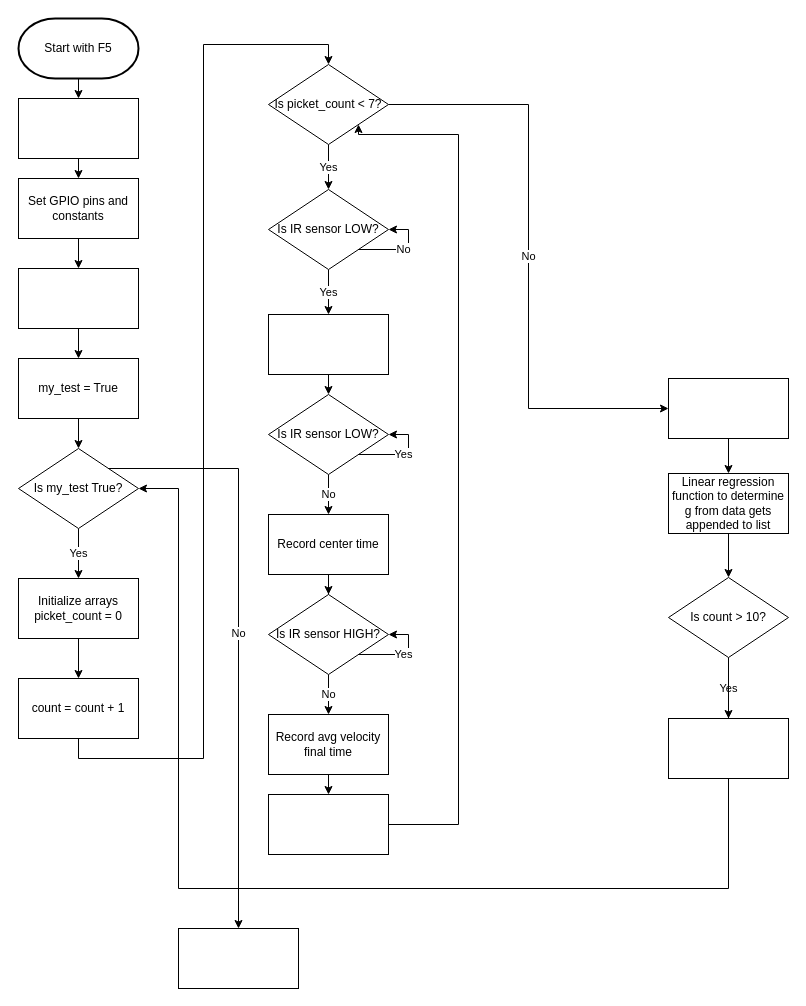
The diagram is 806 pixels wide and 1006 high, and some of its shapes have lost their labels. The centre of each missing label's shape, as x and y in pixels:
"Calculate average g and print" goes at point (728, 748).
"Calculate average velocities and append to array" goes at point (728, 408).
"count = 0" goes at point (78, 298).
"GPIO Cleanup" goes at point (238, 958).
"Import modules" goes at point (78, 128).
"picket_count = picket_count + 1" goes at point (328, 824).
"Start avg velocity initial time" goes at point (328, 344).
